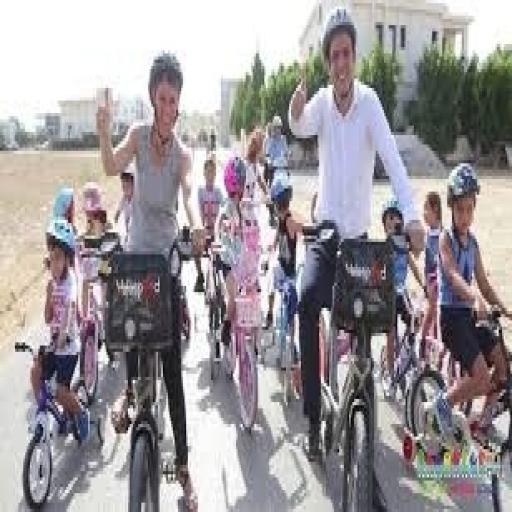cycling: (286, 6, 427, 465), (93, 47, 210, 509), (432, 160, 510, 449), (438, 148, 498, 426), (26, 213, 91, 454), (215, 146, 265, 425)
